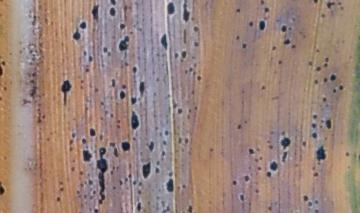tarspot: (95, 145, 109, 207), (58, 77, 74, 107), (180, 1, 194, 27), (129, 108, 142, 132), (117, 35, 134, 52), (81, 147, 95, 166), (90, 3, 102, 25), (158, 31, 171, 50), (315, 144, 328, 162), (141, 161, 152, 179), (70, 27, 83, 42), (277, 136, 292, 149), (165, 179, 178, 193), (165, 1, 176, 17), (137, 80, 147, 96), (106, 5, 118, 18), (120, 139, 131, 152), (257, 19, 268, 32), (324, 118, 334, 132), (145, 139, 155, 153), (77, 18, 88, 30), (269, 159, 279, 171), (182, 28, 189, 45), (88, 126, 97, 139), (118, 89, 127, 102), (281, 150, 289, 164), (246, 145, 256, 156), (236, 192, 247, 202), (109, 77, 117, 90), (1, 180, 7, 197), (136, 200, 144, 212), (112, 146, 119, 159), (279, 23, 287, 34), (283, 36, 291, 47), (87, 53, 95, 64), (195, 73, 204, 82), (326, 1, 335, 10), (80, 137, 89, 146), (84, 65, 92, 75), (270, 94, 280, 102), (329, 72, 336, 83), (167, 171, 176, 179), (131, 64, 137, 76), (262, 6, 271, 14), (267, 143, 275, 152), (161, 138, 169, 147), (208, 146, 216, 155), (248, 19, 255, 29), (181, 182, 188, 192), (183, 136, 190, 146), (119, 82, 129, 89), (75, 189, 82, 199), (107, 1, 120, 6), (180, 50, 188, 58), (235, 123, 243, 131), (54, 195, 62, 203), (173, 51, 181, 59), (160, 149, 168, 157), (70, 131, 78, 139), (312, 171, 320, 179), (118, 23, 127, 30), (130, 96, 137, 105), (244, 173, 251, 182), (310, 121, 317, 130), (311, 111, 318, 120), (240, 41, 247, 50), (307, 59, 314, 68), (301, 139, 308, 148), (163, 128, 170, 137), (81, 48, 88, 57), (265, 170, 271, 180), (187, 203, 193, 213), (66, 138, 76, 144), (193, 40, 200, 48), (231, 179, 238, 187), (311, 131, 318, 139), (321, 95, 329, 102), (319, 12, 327, 19), (234, 7, 241, 15), (233, 34, 241, 41), (343, 151, 350, 159), (314, 65, 322, 72), (58, 186, 66, 193), (77, 169, 84, 177), (87, 178, 94, 186), (118, 179, 125, 187), (1, 63, 5, 77), (302, 193, 309, 201), (280, 129, 287, 137), (107, 140, 116, 146), (154, 166, 160, 175), (177, 135, 182, 145), (322, 76, 329, 83), (155, 159, 162, 166), (115, 123, 122, 130), (115, 118, 122, 125), (67, 145, 74, 152), (137, 180, 144, 187), (190, 54, 197, 61), (307, 201, 314, 208), (256, 165, 263, 172), (194, 25, 200, 33), (175, 107, 183, 113), (102, 46, 108, 54), (277, 58, 283, 66), (322, 62, 330, 68), (311, 1, 319, 7), (93, 85, 99, 93), (69, 166, 77, 172), (109, 111, 115, 119), (254, 187, 260, 195), (240, 88, 248, 94), (259, 1, 268, 6), (290, 44, 297, 50), (338, 84, 344, 91), (270, 44, 277, 50), (260, 84, 267, 90), (315, 47, 321, 54), (287, 25, 293, 32), (291, 16, 297, 23), (79, 183, 86, 189), (109, 169, 115, 176), (183, 68, 189, 75), (98, 114, 104, 121), (314, 198, 320, 205), (267, 204, 273, 211), (331, 86, 336, 94), (103, 109, 111, 114), (258, 153, 263, 161), (93, 207, 99, 213), (337, 1, 343, 7), (99, 100, 105, 106), (91, 189, 97, 195), (127, 173, 133, 179), (136, 188, 142, 194), (254, 157, 260, 163), (106, 51, 111, 58), (323, 56, 330, 61), (111, 184, 116, 191), (189, 66, 194, 73), (313, 77, 318, 83), (339, 5, 344, 11), (313, 208, 319, 213), (132, 179, 136, 185), (193, 63, 198, 67)
